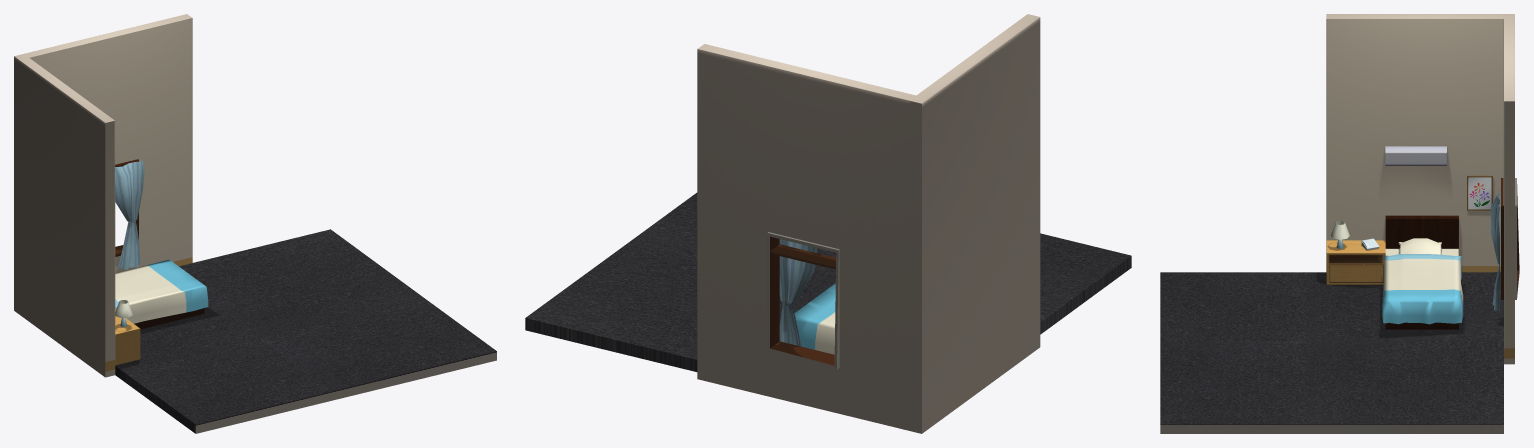
The model's file is Tx_Interior_Work_HotelT1_20170809.fbx.
3 views of the same model, side by side, from view 1: azimuth 30°, elevation 25°; view 2: azimuth 150°, elevation 25°; view 3: azimuth 270°, elevation 25° (orthographic). The views are drawn at different scales.
Visible parts, largest first — view 1: polySurface335, bed_lv1_combined, curtain_side, polySurface361; view 2: polySurface335, curtain_side, bed_lv1_combined, pCube1; view 3: polySurface335, bed_lv1_combined, polySurface361, polySurface333, polySurface865, curtain_side.
Part boxes in pixels (x1,y1,x2,y2): polySurface335: [14, 14, 496, 433]; bed_lv1_combined: [115, 259, 208, 329]; curtain_side: [115, 160, 144, 269]; polySurface361: [115, 310, 140, 365]; polySurface335: [525, 14, 1131, 433]; curtain_side: [779, 239, 817, 346]; bed_lv1_combined: [794, 283, 835, 354]; pCube1: [770, 244, 835, 269]; polySurface335: [1160, 14, 1519, 433]; bed_lv1_combined: [1382, 215, 1463, 329]; polySurface361: [1326, 240, 1385, 284]; polySurface333: [1385, 146, 1446, 165]; polySurface865: [1467, 175, 1492, 210]; curtain_side: [1491, 190, 1499, 312].
Size of the model in its own units: 40.4 by 31.58 by 39.11.
1 material, 1 textured.
